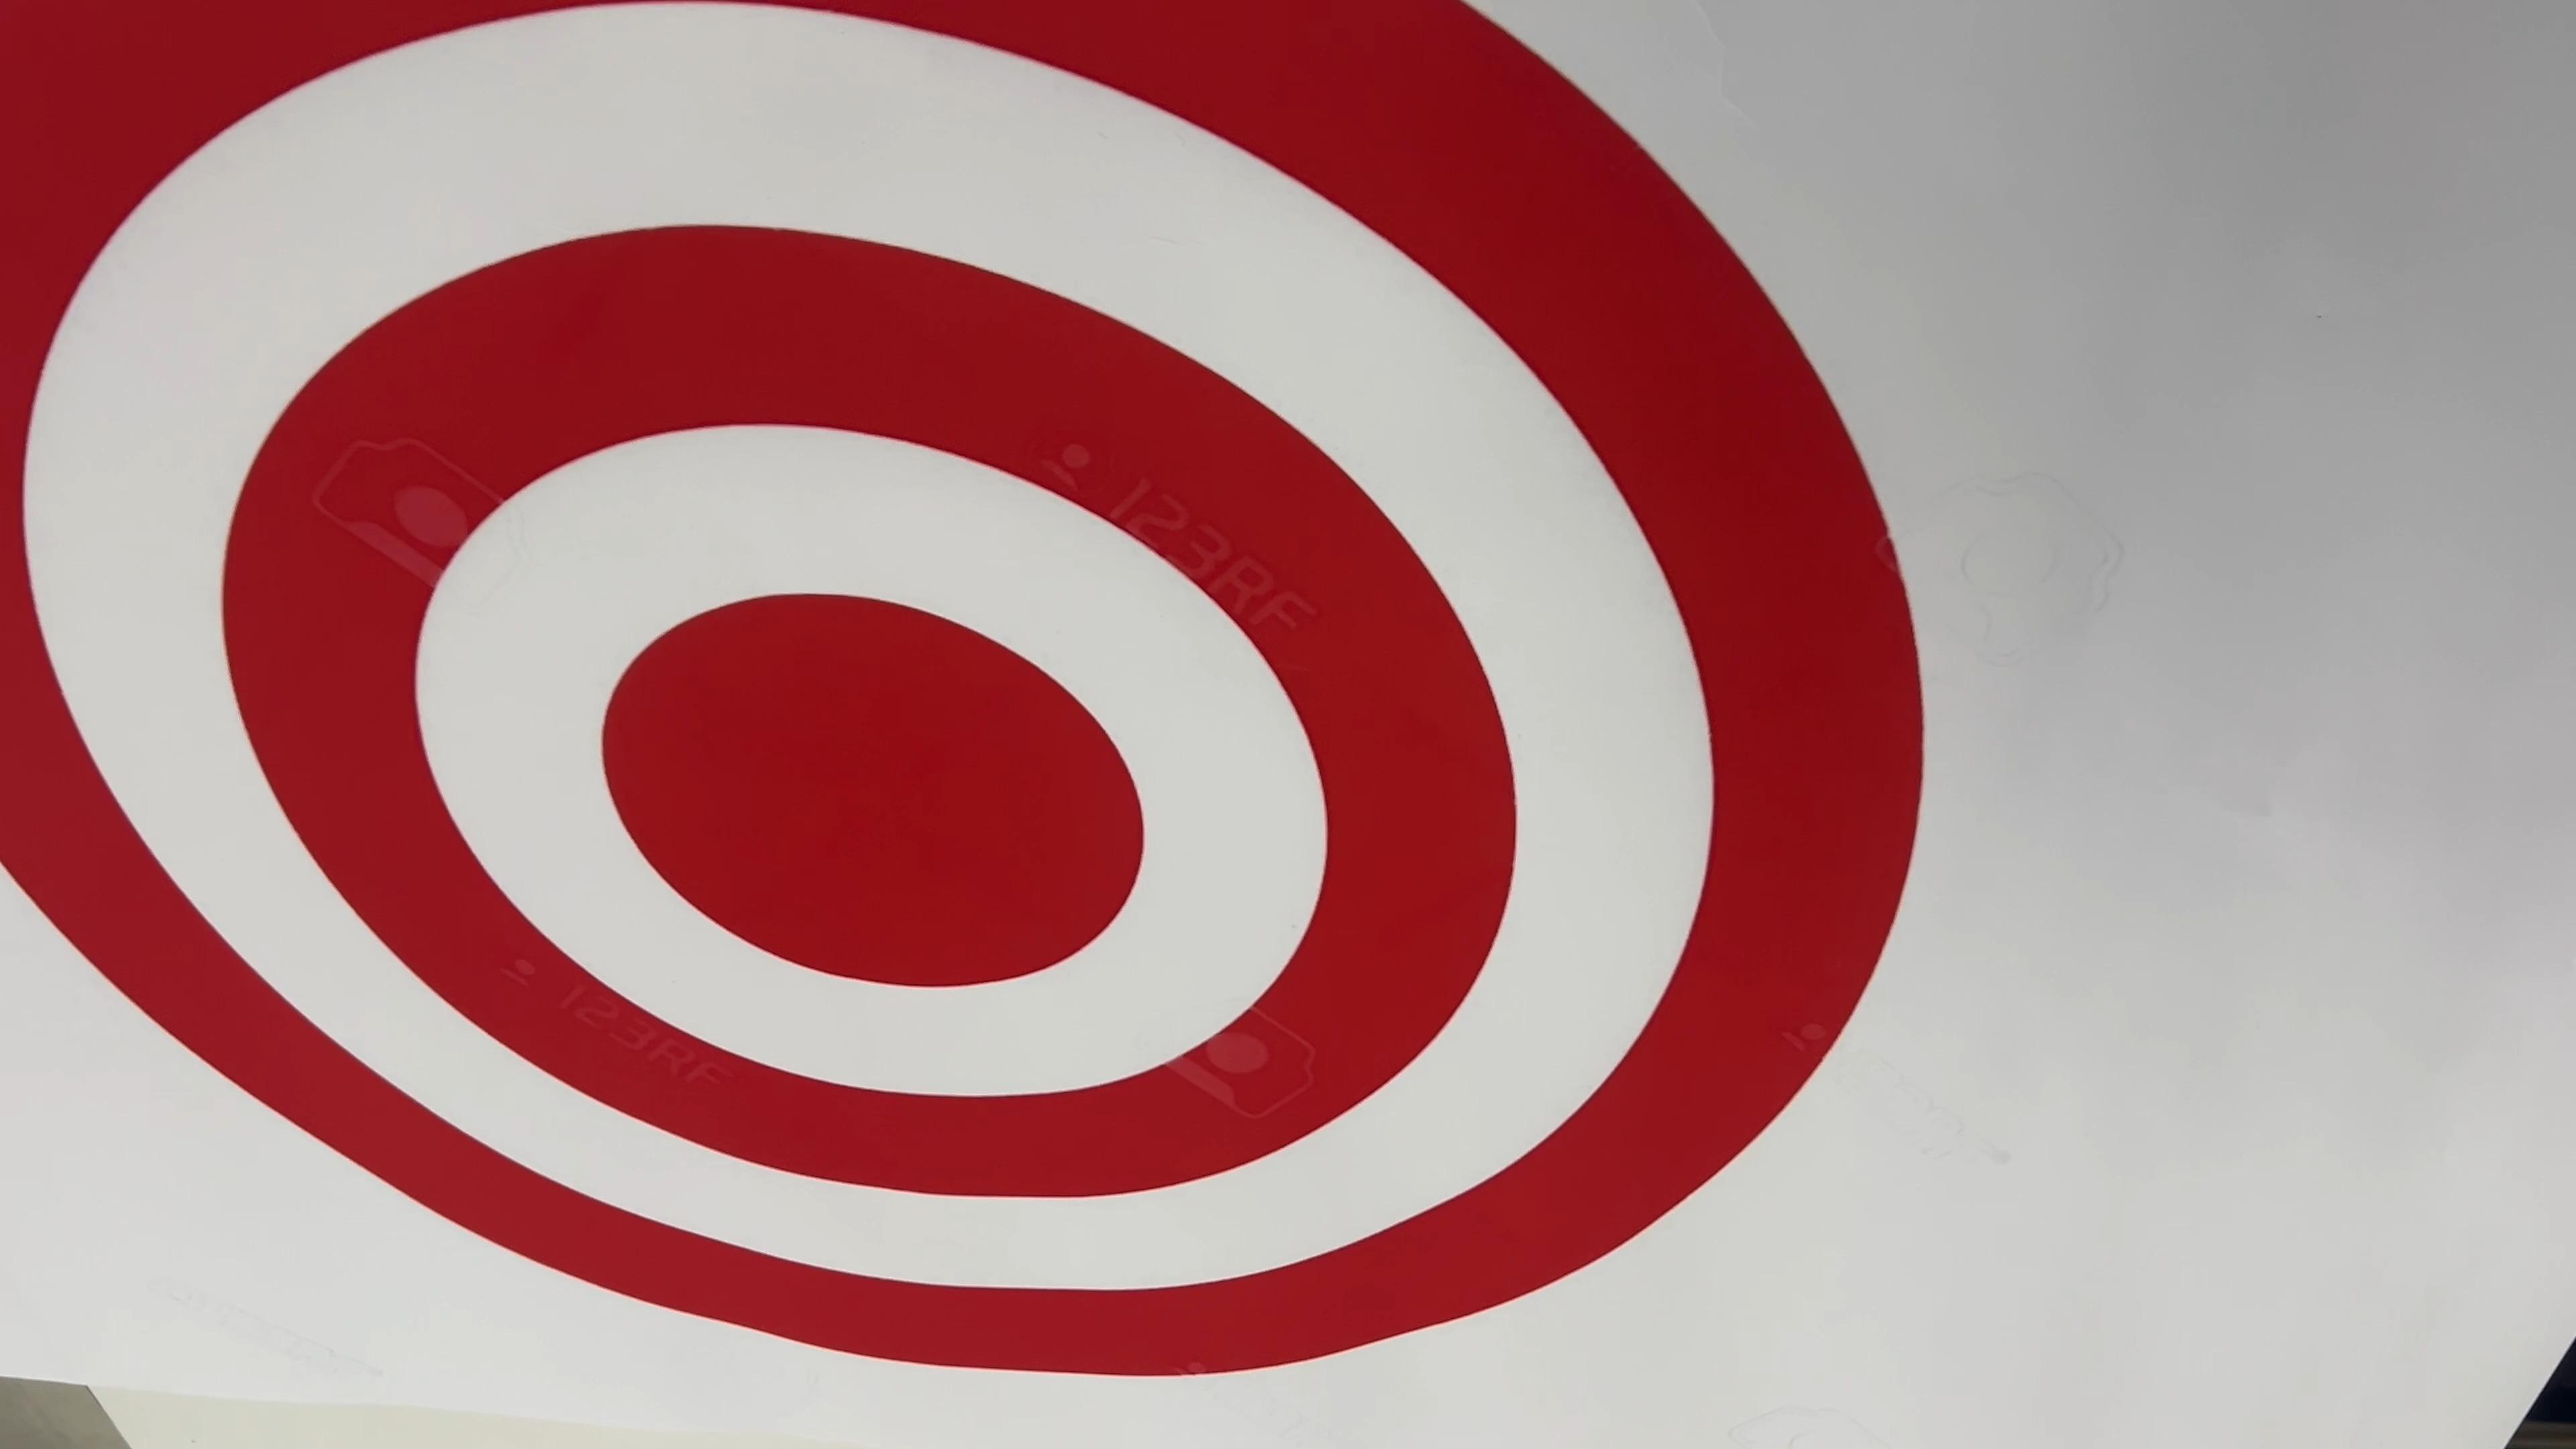target_red: (7, 7, 2015, 1376)
